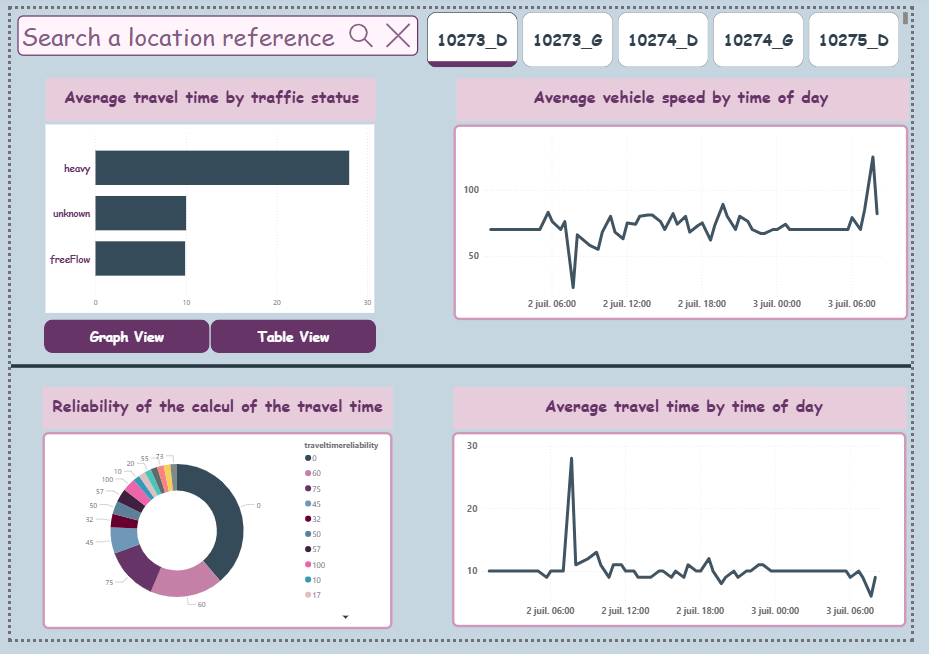

This screenshot's page, from the dashboard's own definition file:
{"tool":"powerbi","page":{"name":"Seite 1","canvas":[1500,1050],"ordinal":0},"visuals":[{"type":"lineChart","fields":{"Y":["Avg(Road_traffic.averagevehiclespeed)"],"Category":["Road_traffic.datetime"]},"box":[738,192,758,326],"z":0},{"type":"shape","box":[742,114,754,72],"z":1000},{"type":"shape","box":[0,574,1500,40],"z":3000},{"type":"textbox","box":[738,122,758,56],"z":4000},{"type":"barChart","fields":{"Category":["Road_traffic.trafficstatus"],"Y":["Avg(Road_traffic.traveltime)"]},"box":[58,192,548,314],"z":5000},{"type":"shape","box":[58,114,550,72],"z":6000},{"type":"textbox","box":[60,122,548,56],"z":7000},{"type":"shape","box":[56,518,276,56],"z":8000},{"type":"shape","box":[332,518,276,56],"z":9000},{"type":"textSearchSlicerF85E2E78BE4A4D7D9F99ED75B5D71C85","fields":{"fields":["Road_traffic.predefinedlocationreference"]},"box":[0,0,688,84],"z":10000},{"type":"advancedSlicerVisual","fields":{"Values":["Road_traffic.predefinedlocationreference"]},"box":[688,0,812,102],"z":11000},{"type":"lineChart","fields":{"Category":["Road_traffic.datetime"],"Y":["Avg(Road_traffic.traveltime)"]},"box":[735,705,757.5,325],"z":12000},{"type":"shape","box":[737.5,630,755,70],"z":13000},{"type":"textbox","box":[742.5,637.5,757.5,55],"z":14000},{"type":"donutChart","fields":{"Category":["Road_traffic.traveltimereliability"],"Y":["CountNonNull(Road_traffic.predefinedlocationreference)"]},"box":[51.7,705,583.3,328.3],"z":15000},{"type":"shape","box":[52,630,584,70],"z":16000},{"type":"textbox","box":[52,638,584,56],"z":17000}]}

Visuals, with their boxes in screenshot pixels (x1, y1, x2, y2), scaled from the page's 1500x1050 canvas onto the 929x654 screenshot:
lineChart - Avg(Road_traffic.averagevehiclespeed) x Road_traffic.datetime: region(457, 120, 927, 323)
shape: region(460, 71, 927, 116)
shape: region(0, 358, 928, 382)
textbox: region(457, 76, 927, 111)
barChart - Road_traffic.trafficstatus x Avg(Road_traffic.traveltime): region(36, 120, 375, 315)
shape: region(36, 71, 377, 116)
textbox: region(37, 76, 377, 111)
shape: region(35, 323, 206, 358)
shape: region(206, 323, 377, 358)
textSearchSlicerF85E2E78BE4A4D7D9F99ED75B5D71C85 - Road_traffic.predefinedlocationreference: region(0, 0, 426, 52)
advancedSlicerVisual - Road_traffic.predefinedlocationreference: region(426, 0, 928, 64)
lineChart - Road_traffic.datetime x Avg(Road_traffic.traveltime): region(455, 439, 924, 642)
shape: region(457, 392, 924, 436)
textbox: region(460, 397, 928, 431)
donutChart - Road_traffic.traveltimereliability x CountNonNull(Road_traffic.predefinedlocationreference): region(32, 439, 393, 644)
shape: region(32, 392, 394, 436)
textbox: region(32, 397, 394, 432)
